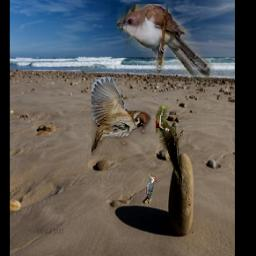Cuckoo: (117, 4, 214, 83)
Sparrow: (91, 78, 151, 156)
Woodpecker: (156, 107, 186, 185), (143, 175, 157, 206)
